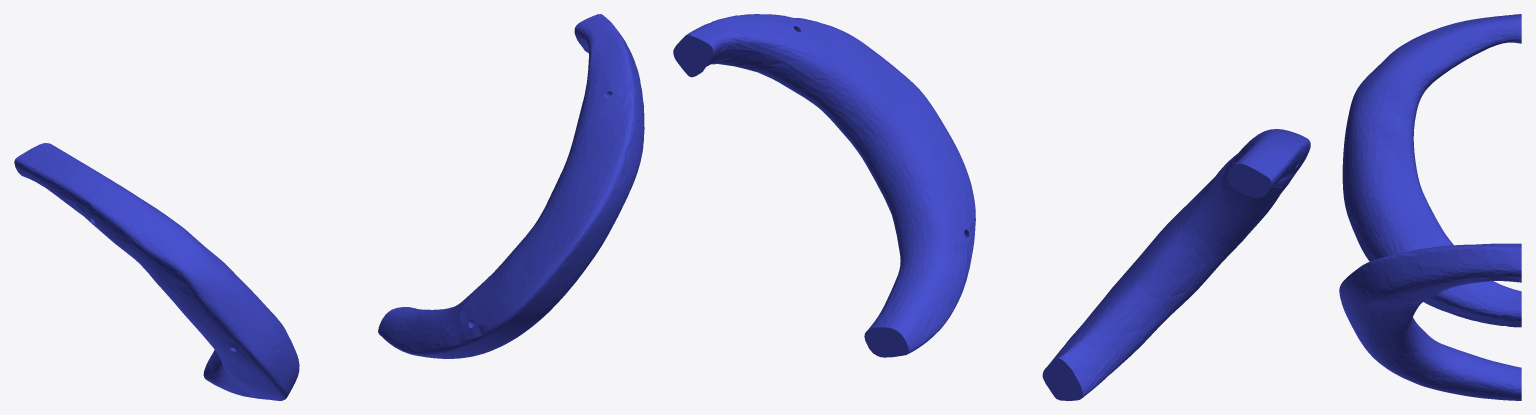
File: parka_hood.glb
3 renders of one model, left to right at view 1: azimuth 30°, elevation 25°; view 2: azimuth 150°, elevation 25°; view 3: azimuth 270°, elevation 25°, orthographic. The views are drawn at different scales.
Bounding box in the file's own units: 669 × 301 × 212.
